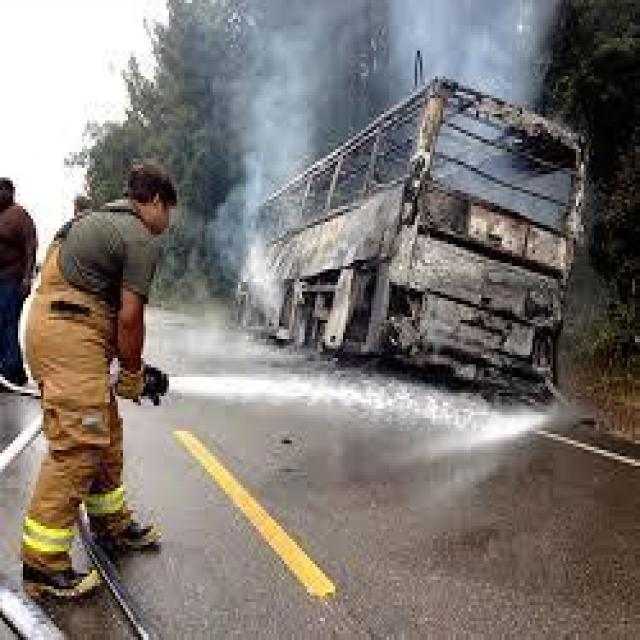smoke: (228, 64, 300, 318)
